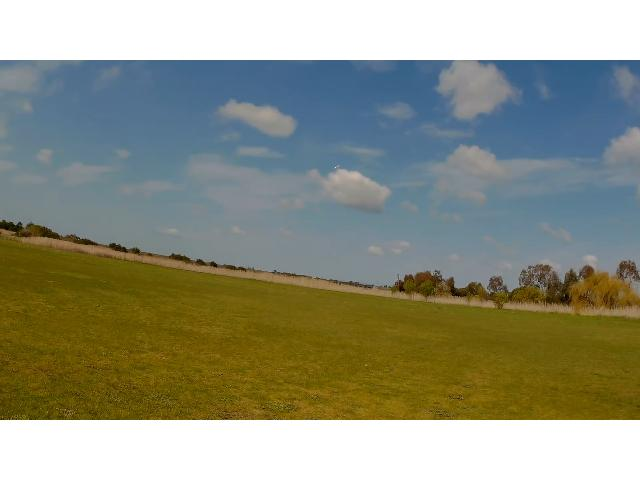Anti-Drone: (321, 158, 351, 176)
